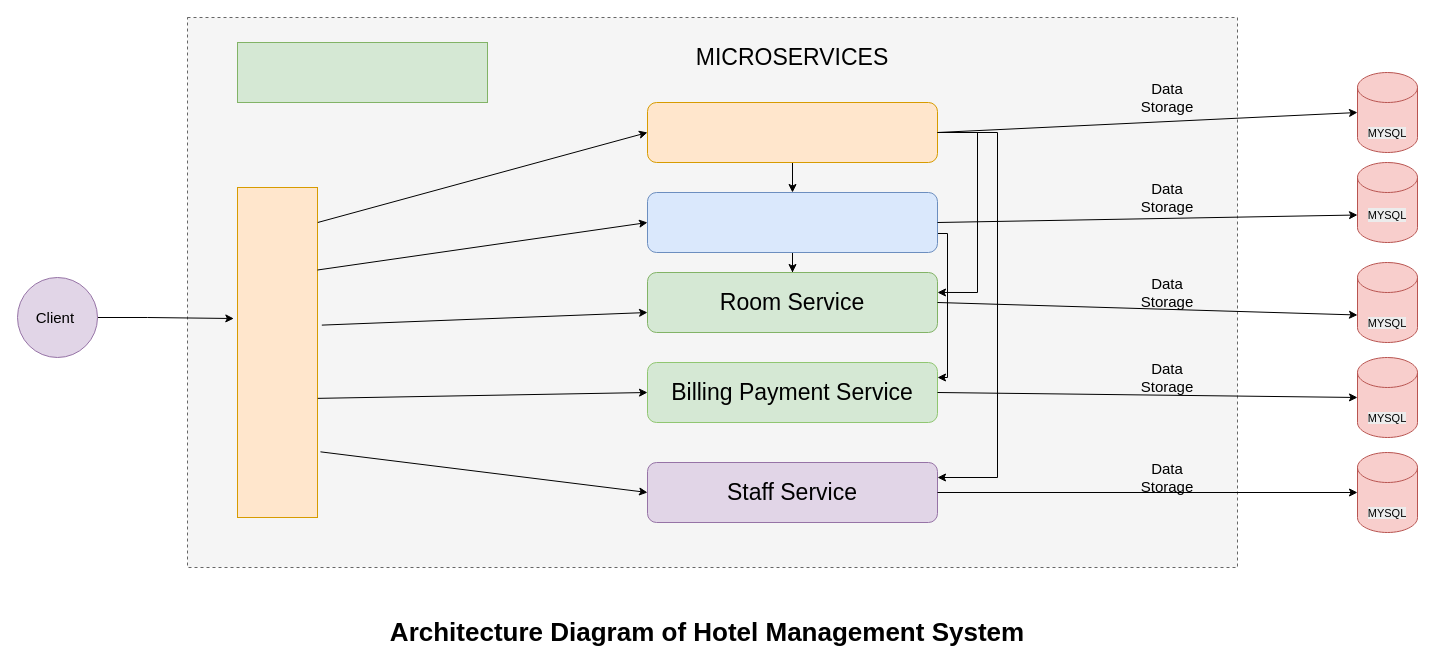
The diagram is 1435 pixels wide and 665 high, and some of its shapes have lost their labels. The box of each missing label's shape, as (x1, y1, x2, y2) in pixels:
A P I G A T E W A Y: (236, 186, 318, 518)
Authentication: (646, 102, 938, 162)
EUREKA SERVER: (236, 42, 488, 102)
Reservation Service: (646, 192, 938, 252)
